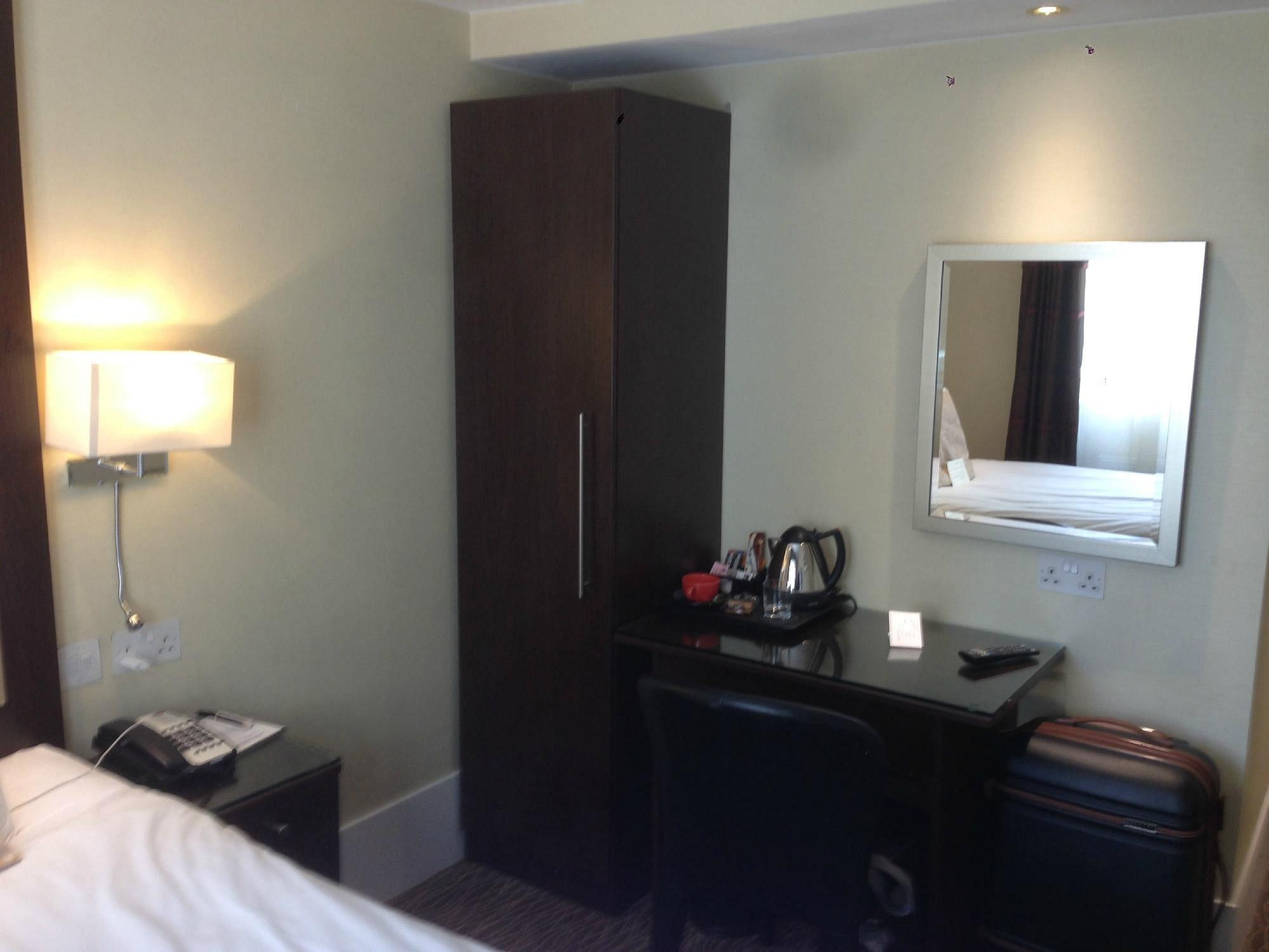chair: (636, 681, 925, 952)
lamp: (33, 346, 232, 647)
organized table: (634, 522, 1058, 728)
